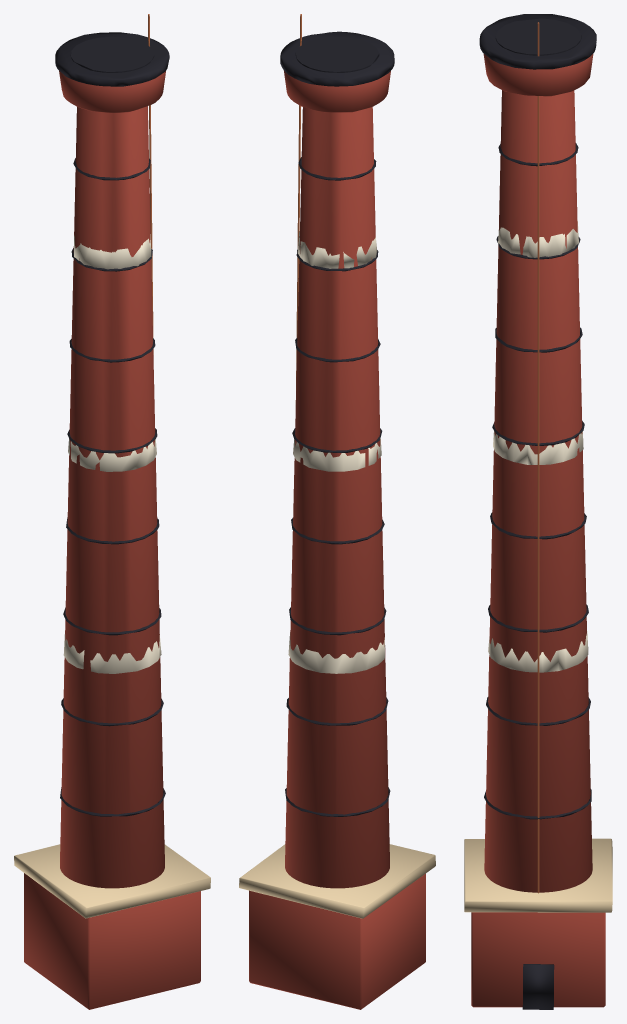
The model's file is chimney_stack.glb.
3 renders of one model, left to right at view 1: azimuth 30°, elevation 25°; view 2: azimuth 150°, elevation 25°; view 3: azimuth 270°, elevation 25°, orthographic. The views are drawn at different scales.
Visible parts, largest first — view 1: chimney_stack; view 2: chimney_stack; view 3: chimney_stack.
Boxes of the visible parts, x1,y1,x2,y2 form: chimney_stack: [14, 14, 210, 1009]; chimney_stack: [239, 14, 435, 1009]; chimney_stack: [464, 14, 612, 1009].
Size of the model in its own units: 6.55 by 47.49 by 6.55.
Materials: 1 (1 with a texture image).
